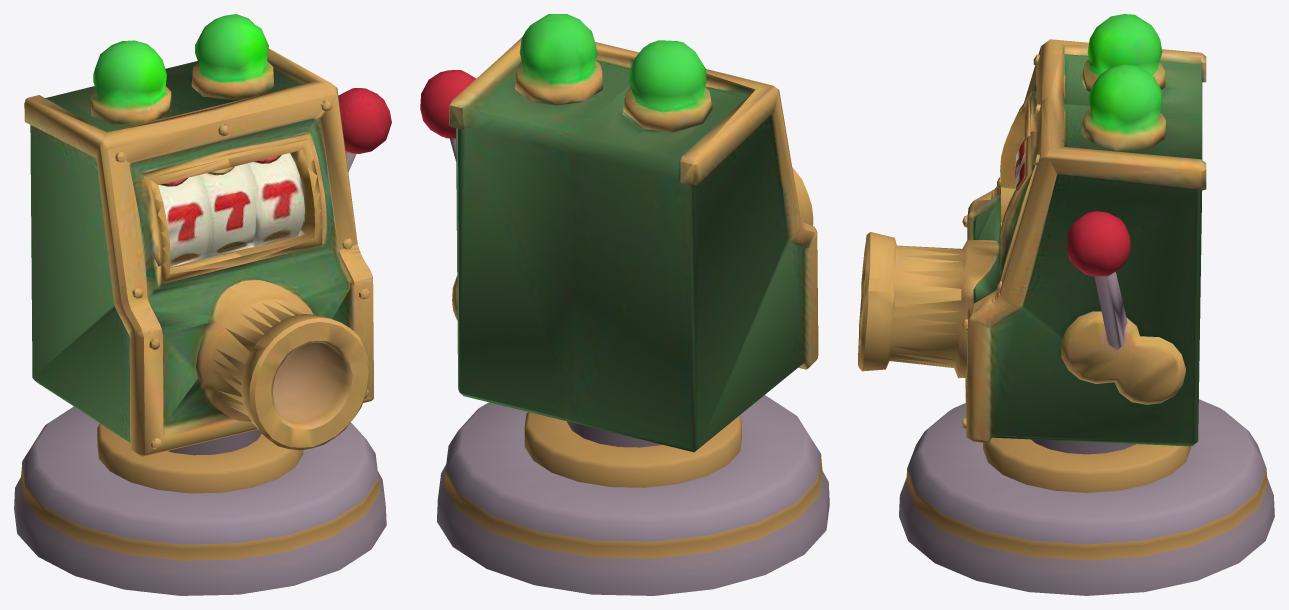
The model's file is torretta_bot.glb.
The picture shows the model from 3 angles, left to right: view 1: azimuth 30°, elevation 25°; view 2: azimuth 150°, elevation 25°; view 3: azimuth 270°, elevation 25°; orthographic projection. The views are drawn at different scales.
Visible parts, largest first — view 1: testa, base, lampada_1, lampada_0, leva; view 2: testa, base, lampada_0, lampada_1, leva; view 3: testa, base, lampada_1, leva, lampada_0.
Boxes of the visible parts, x1=… form: testa: x1=24, y1=48, x2=373, y2=456; base: x1=14, y1=406, x2=386, y2=595; lampada_1: x1=191, y1=14, x2=274, y2=99; lampada_0: x1=90, y1=40, x2=171, y2=124; leva: x1=338, y1=88, x2=391, y2=171; testa: x1=449, y1=37, x2=818, y2=452; base: x1=437, y1=395, x2=829, y2=595; lampada_0: x1=622, y1=40, x2=712, y2=132; lampada_1: x1=515, y1=14, x2=602, y2=105; leva: x1=420, y1=70, x2=476, y2=161; testa: x1=858, y1=39, x2=1206, y2=446; base: x1=899, y1=399, x2=1274, y2=595; lampada_1: x1=1082, y1=64, x2=1165, y2=150; leva: x1=1067, y1=211, x2=1130, y2=349; lampada_0: x1=1082, y1=14, x2=1165, y2=91.
Size of the model in its own units: 0.7853 by 0.999 by 0.797.
2 materials, 1 textured.
